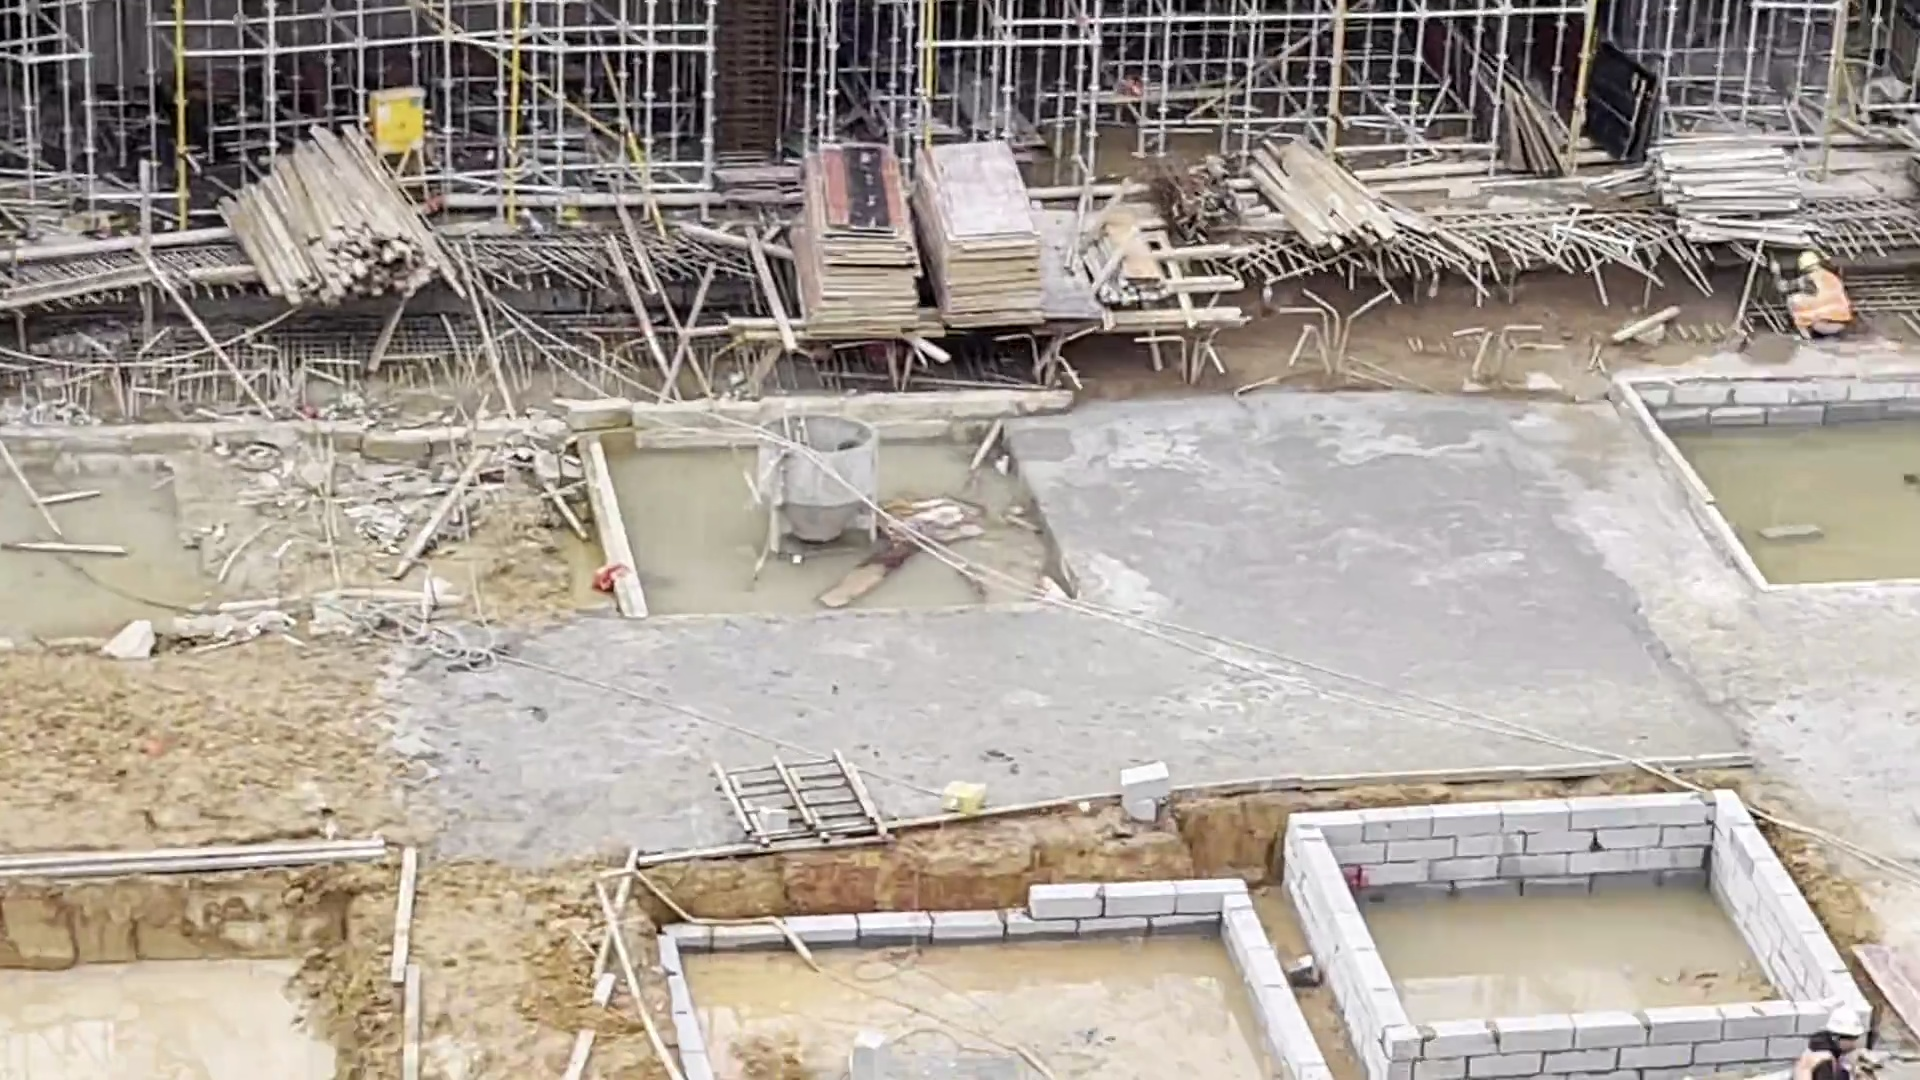board: (799, 144, 909, 325), (919, 142, 1032, 315)
brick: (1709, 794, 1861, 1023), (1339, 798, 1700, 886), (1288, 820, 1402, 1063), (1410, 1014, 1824, 1072), (1652, 376, 1920, 424), (1027, 874, 1219, 929), (705, 909, 1023, 940), (1254, 962, 1324, 1080), (660, 924, 702, 1077), (1225, 893, 1263, 966)
ebox: (379, 91, 437, 176)
helmet: (1826, 1008, 1855, 1038), (1800, 250, 1816, 253)
person: (1768, 251, 1848, 336), (1800, 1010, 1870, 1080)
vest: (1791, 274, 1846, 332), (1799, 1051, 1837, 1073)
wood: (224, 136, 450, 296)
